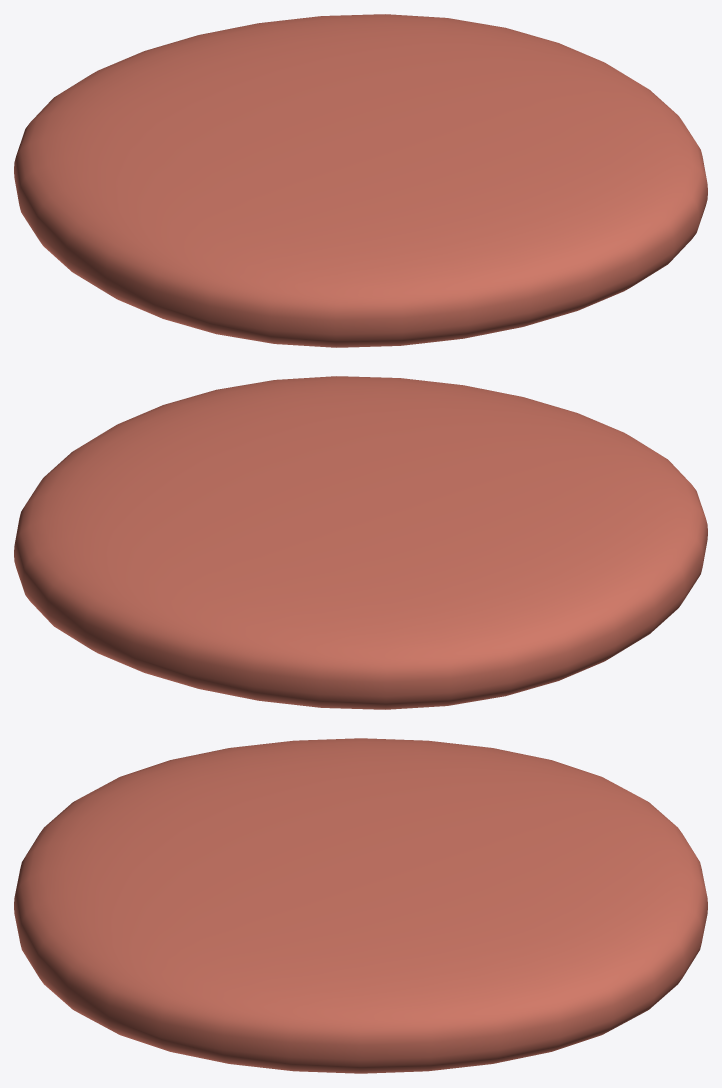
The model's file is Carne.glb.
3 views of the same model, one above another, from view 1: azimuth 30°, elevation 25°; view 2: azimuth 150°, elevation 25°; view 3: azimuth 270°, elevation 25° (orthographic). The views are drawn at different scales.
Visible parts, largest first — view 1: carne; view 2: carne; view 3: carne.
Boxes of the visible parts, <box> form: carne: <box>14,14,707,347</box>; carne: <box>14,376,707,709</box>; carne: <box>14,738,707,1073</box>.
Size of the model in its own units: 1.85 by 0.3143 by 1.85.
